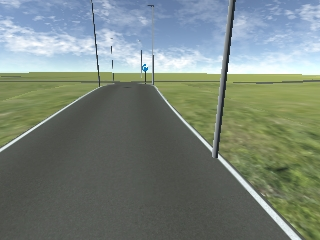right: (141, 65, 149, 73)
